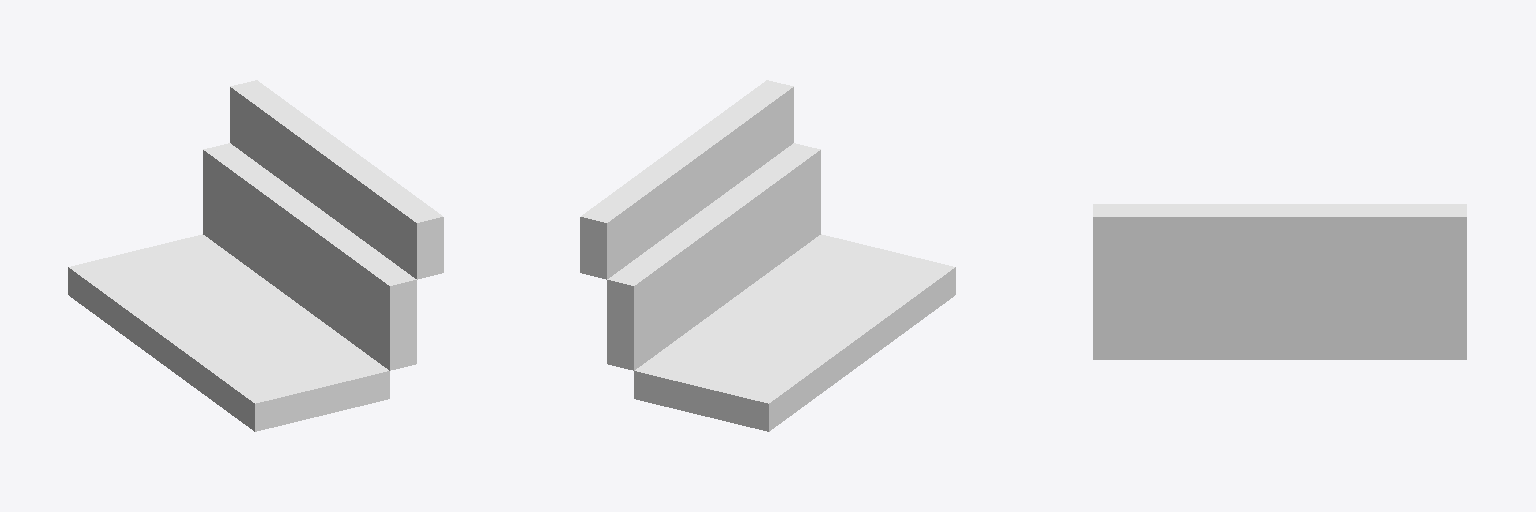
Rendered from map1.72.vox.obj.
The picture shows the model from 3 angles: view 1: azimuth 30°, elevation 25°; view 2: azimuth 150°, elevation 25°; view 3: azimuth 270°, elevation 25°; orthographic projection.
Visible parts, largest first — view 1: object 1; view 2: object 1; view 3: object 1.
Boxes of the visible parts, box(x1,y1,x2,y2) form: object 1: box(68, 80, 443, 431); object 1: box(580, 80, 955, 431); object 1: box(1093, 204, 1466, 359).
Size of the model in its own units: 14 by 12 by 24.